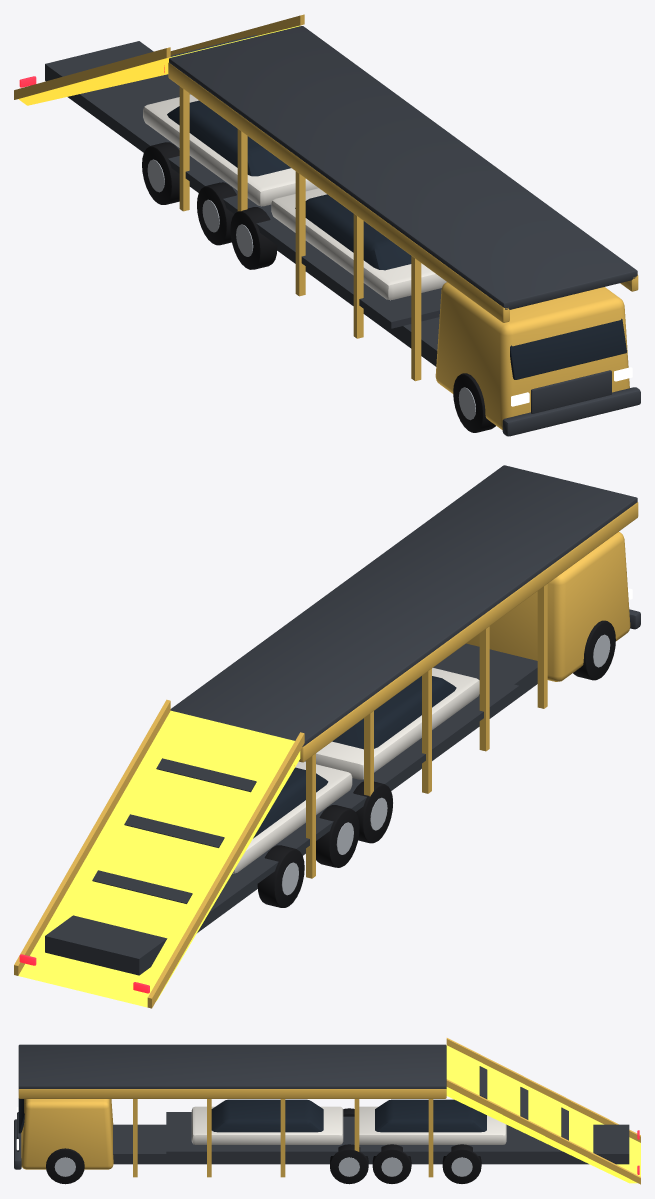
The model's file is trainCar.73ce0880.glb.
3 renders of one model, top to bottom at view 1: azimuth 30°, elevation 25°; view 2: azimuth 150°, elevation 25°; view 3: azimuth 270°, elevation 25°, orthographic. The views are drawn at different scales.
Visible parts, largest first — view 1: carrier; view 2: carrier; view 3: carrier.
Part boxes in pixels (x1,y1,x2,y2): carrier: (14, 14, 640, 436); carrier: (14, 465, 640, 1008); carrier: (14, 1038, 640, 1184).
Size of the model in its own units: 2.61 by 2.98 by 16.12.
